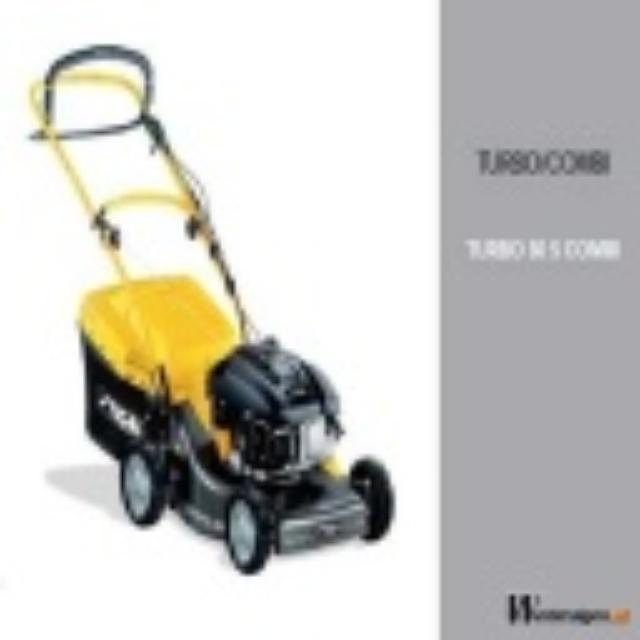Rotary-Mower: (21, 41, 396, 576)
